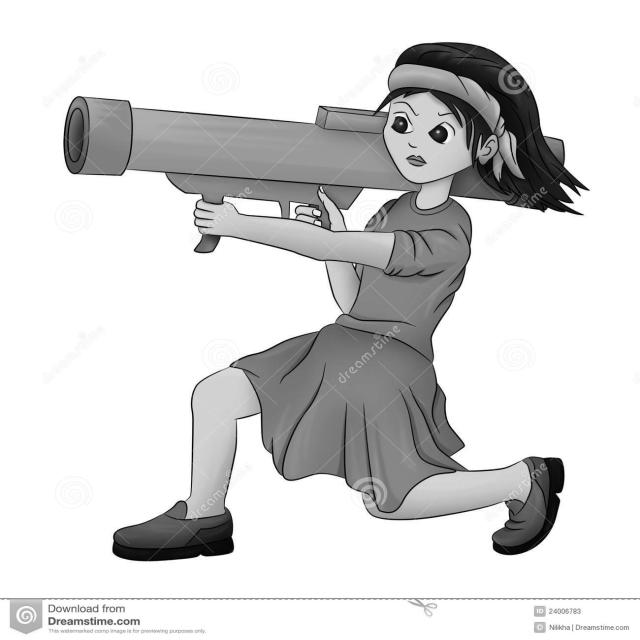Lancher: (54, 57, 614, 267)
